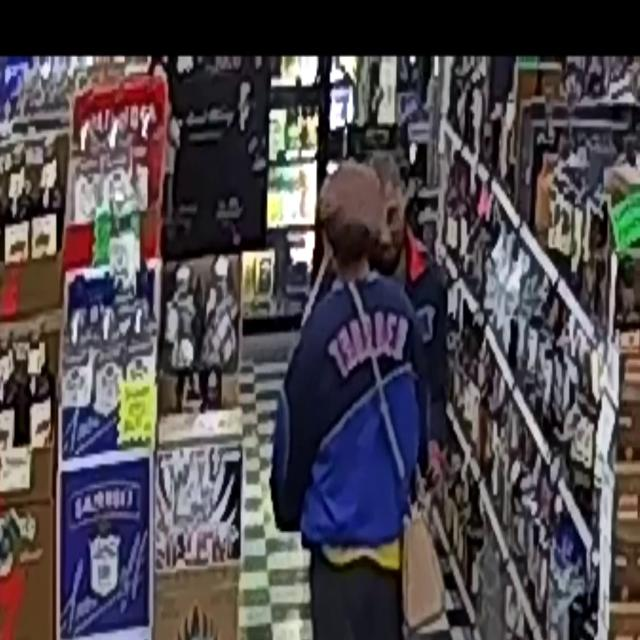normal: (272, 176, 470, 640)
